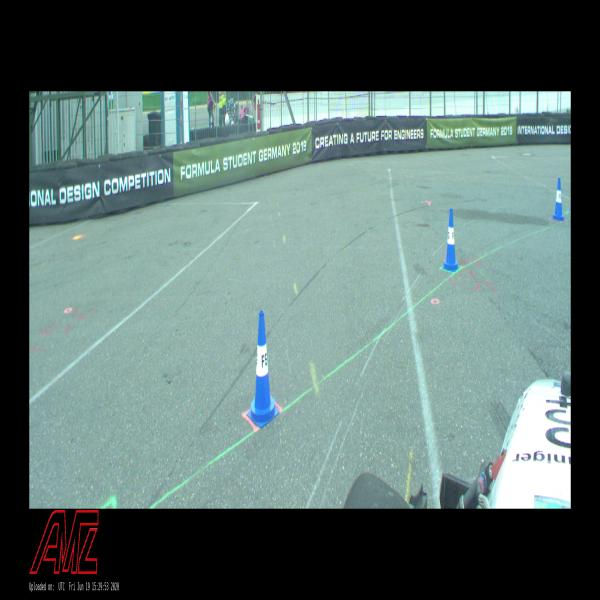blue_cone: (246, 310, 280, 428), (442, 208, 460, 271), (551, 178, 565, 220)
